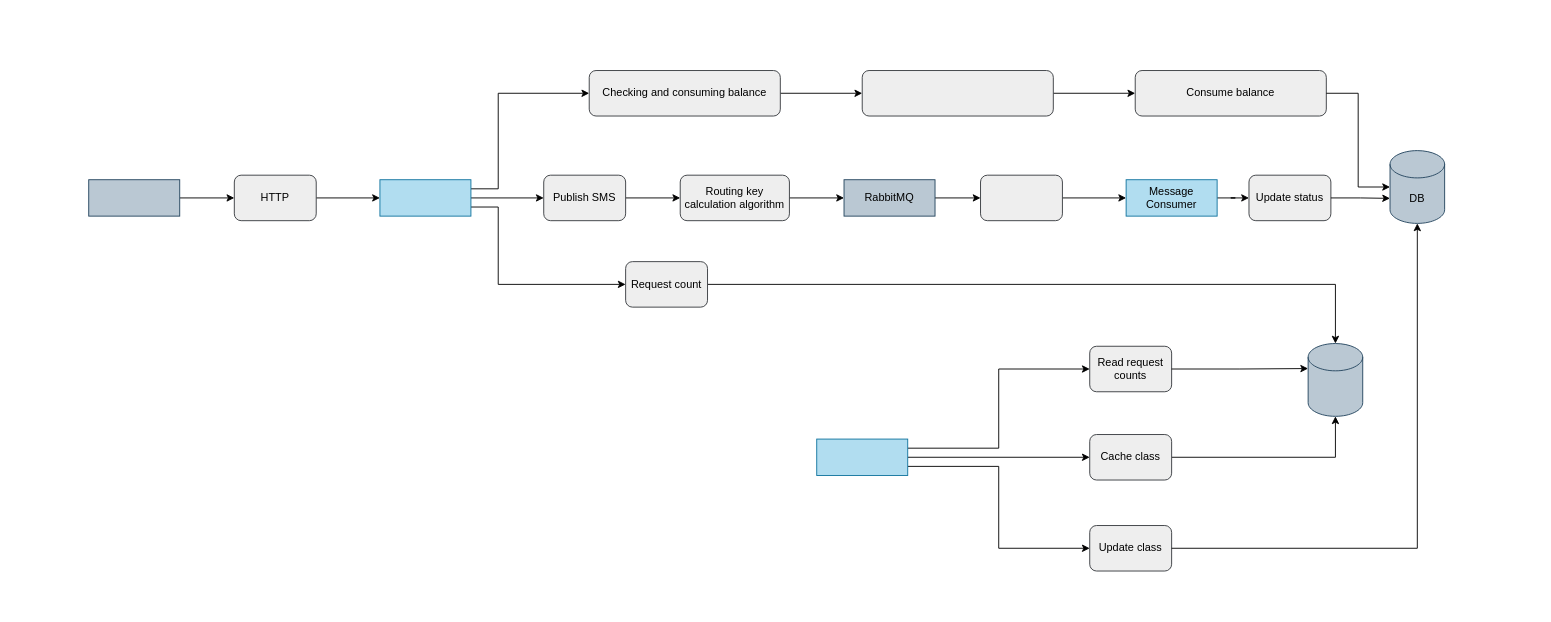
This 1551x622 diagram has some shape labels left out. The box of each missing label's shape, as (x1, y1, x2, y2) in pixels:
API: (379, 179, 471, 216)
Client: (88, 179, 180, 216)
Redis: (1307, 343, 1363, 416)
SMS ack: (980, 174, 1062, 221)
Store SMS as Pending: (861, 70, 1053, 116)
Traffic Classifier: (816, 438, 908, 475)
